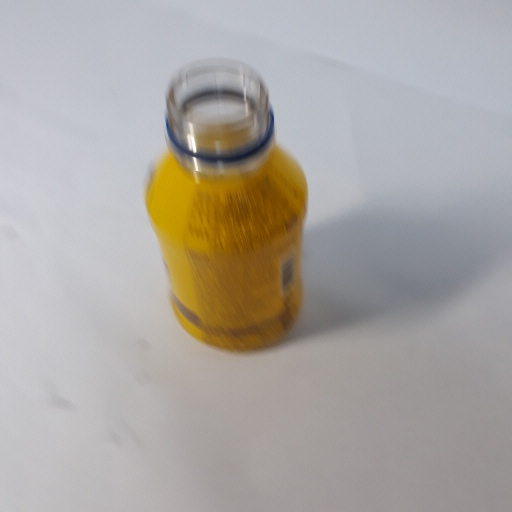Plastic_0: (142, 58, 313, 363)
